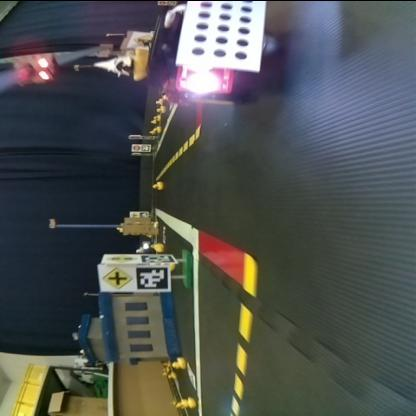Duckie: (94, 47, 144, 80), (171, 356, 183, 367), (181, 397, 195, 406), (152, 180, 162, 186), (152, 244, 164, 249), (167, 370, 176, 376), (157, 105, 165, 111), (155, 98, 163, 104), (154, 125, 160, 131)
Duckiebot: (152, 0, 272, 102)
Intersection sign: (100, 266, 131, 288)
QR code: (135, 264, 168, 288), (141, 253, 174, 261)
Signal sign: (107, 253, 137, 261)
Traffic light: (13, 54, 57, 82)
